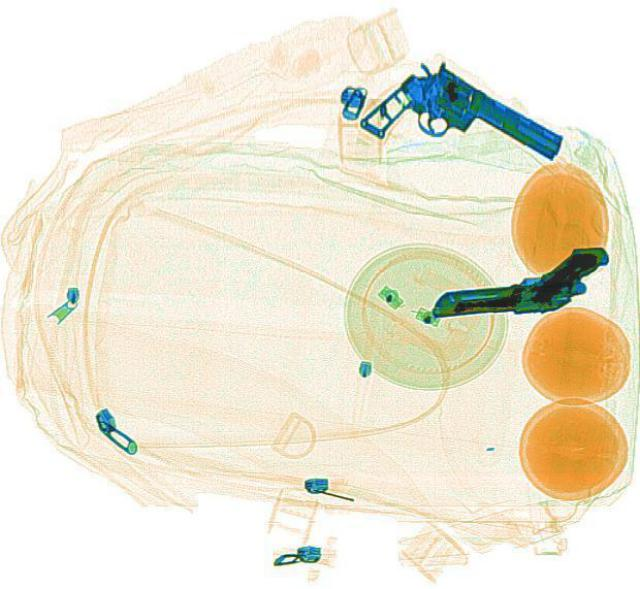Gun: (353, 46, 571, 214), (426, 244, 612, 319)
